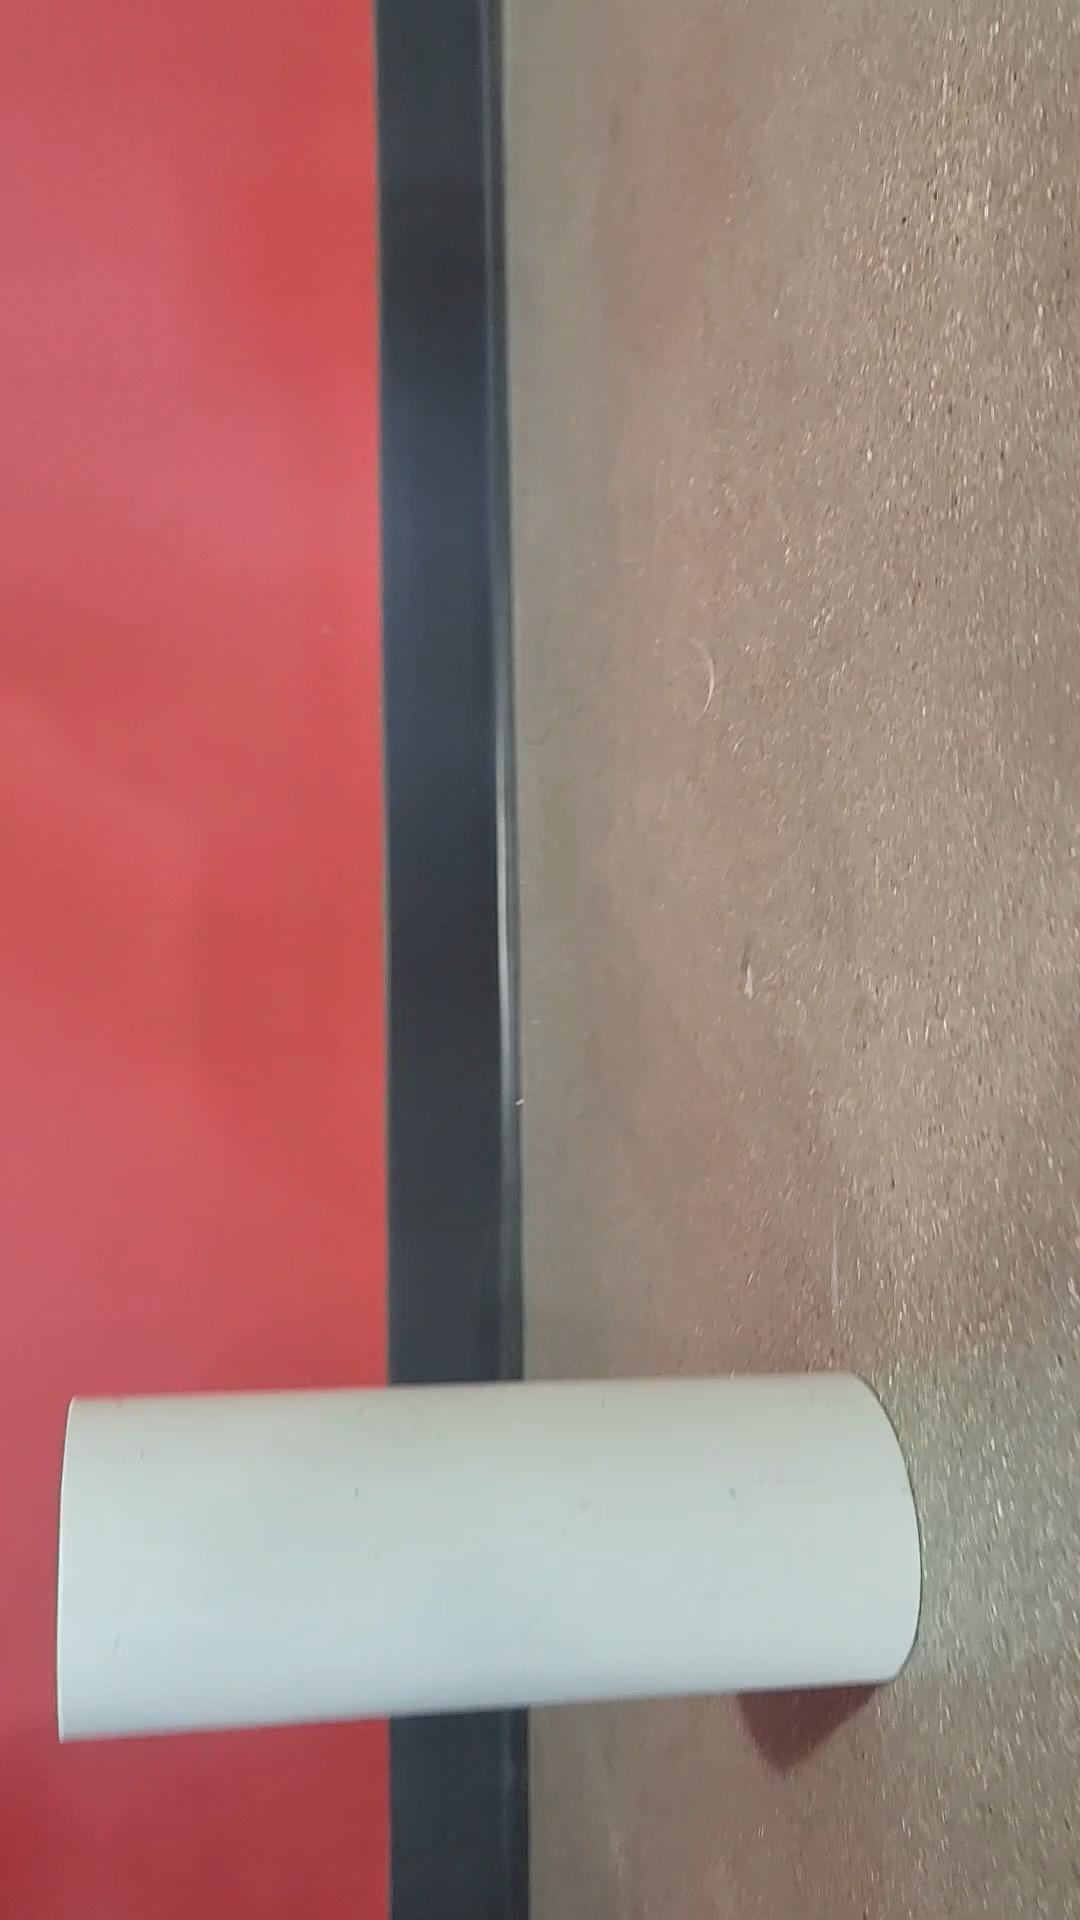coral: (57, 1364, 920, 1741)
